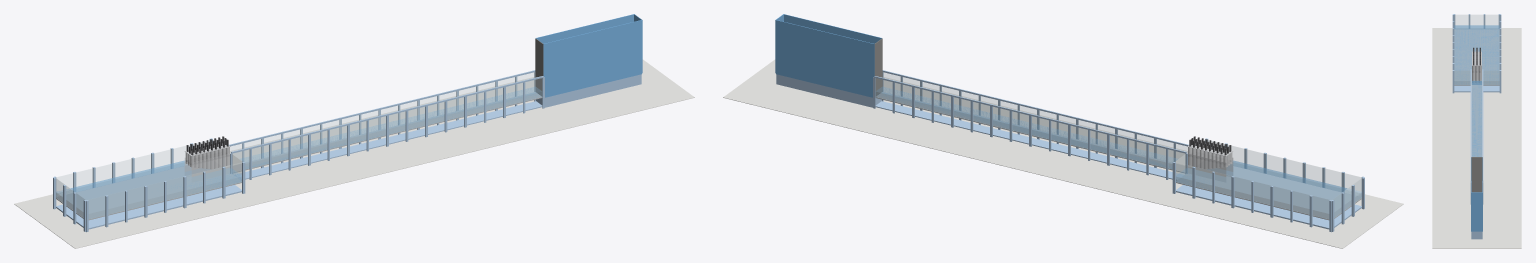
The model's file is tank_model.glb.
3 views of the same model, side by side, from view 1: azimuth 30°, elevation 25°; view 2: azimuth 150°, elevation 25°; view 3: azimuth 270°, elevation 25° (orthographic). The views are drawn at different scales.
Visible parts, largest first — view 1: lab floor, reservoir right wall, channel right wall (glass), water in the head, head floor, channel left wall (glass), water in the channel, head right wall (glass), head left wall (glass), channel floor, channel stand (approx.), head under-frame (approx.) (+7 smaller); view 2: lab floor, reservoir left wall, channel left wall (glass), water in the head, head floor, channel right wall (glass), water in the channel, head left wall (glass), head right wall (glass), channel floor, channel stand (approx.), head under-frame (approx.) (+7 smaller); view 3: lab floor, water in the head, head floor, channel floor, water in the channel, head back wall (glass), reservoir far wall, reservoir gate (closed: a reflecting wall), head under-frame (approx.), head front wall right of the mouth (glass), head front wall left of the mouth (glass), channel right top rail (frame, approx.) (+7 smaller).
Part boxes in pixels (x1=…): lab floor: x1=14, y1=59, x2=694, y2=248; reservoir right wall: x1=543, y1=20, x2=641, y2=96; channel right wall (glass): x1=233, y1=78, x2=541, y2=168; water in the head: x1=56, y1=161, x2=241, y2=218; head floor: x1=56, y1=165, x2=241, y2=220; channel left wall (glass): x1=230, y1=72, x2=534, y2=158; water in the channel: x1=240, y1=87, x2=541, y2=168; head right wall (glass): x1=88, y1=162, x2=241, y2=218; head left wall (glass): x1=56, y1=140, x2=209, y2=191; channel floor: x1=226, y1=92, x2=542, y2=172; channel stand (approx.): x1=234, y1=101, x2=542, y2=180; head under-frame (approx.): x1=56, y1=185, x2=241, y2=229; lab floor: x1=723, y1=59, x2=1403, y2=248; reservoir left wall: x1=776, y1=20, x2=874, y2=96; channel left wall (glass): x1=876, y1=78, x2=1184, y2=168; water in the head: x1=1176, y1=161, x2=1361, y2=218; head floor: x1=1176, y1=165, x2=1361, y2=220; channel right wall (glass): x1=883, y1=72, x2=1187, y2=158; water in the channel: x1=876, y1=87, x2=1177, y2=168; head left wall (glass): x1=1176, y1=162, x2=1329, y2=218; head right wall (glass): x1=1208, y1=140, x2=1361, y2=191; channel floor: x1=875, y1=92, x2=1191, y2=172; channel stand (approx.): x1=875, y1=101, x2=1183, y2=180; head under-frame (approx.): x1=1176, y1=185, x2=1361, y2=229; lab floor: x1=1432, y1=28, x2=1521, y2=248; water in the head: x1=1454, y1=25, x2=1499, y2=84; head floor: x1=1454, y1=29, x2=1499, y2=85; channel floor: x1=1471, y1=85, x2=1482, y2=156; water in the channel: x1=1472, y1=81, x2=1481, y2=156; head back wall (glass): x1=1454, y1=15, x2=1499, y2=28; reservoir far wall: x1=1471, y1=192, x2=1482, y2=231; reservoir gate (closed: a reflecting wall): x1=1471, y1=157, x2=1482, y2=192; head under-frame (approx.): x1=1454, y1=85, x2=1499, y2=92; head front wall right of the mouth (glass): x1=1454, y1=71, x2=1470, y2=84; head front wall left of the mouth (glass): x1=1483, y1=71, x2=1499, y2=84; channel right top rail (frame, approx.): x1=1470, y1=69, x2=1471, y2=181.
Size of the model in its own units: 35.28 by 3.52 by 6.04.
